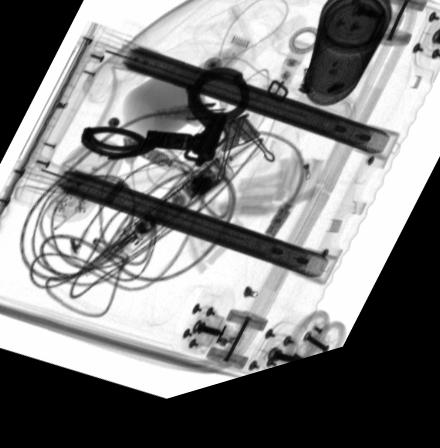HandCuffs: (77, 78, 251, 181)
